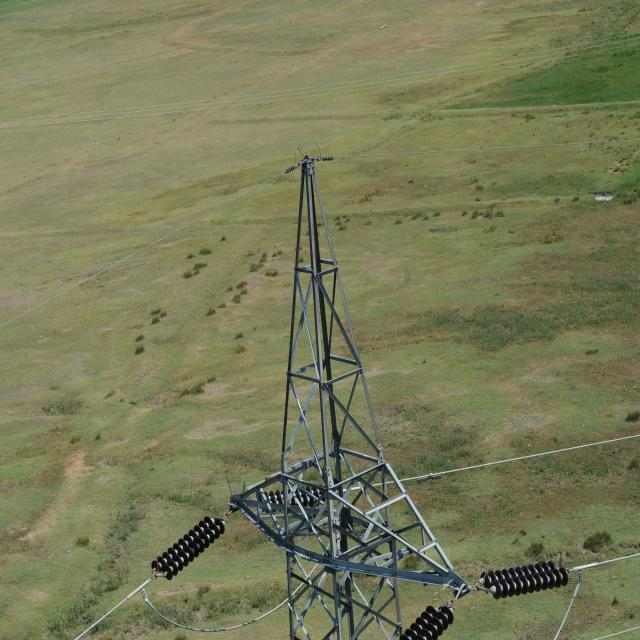direk: (205, 152, 440, 640)
